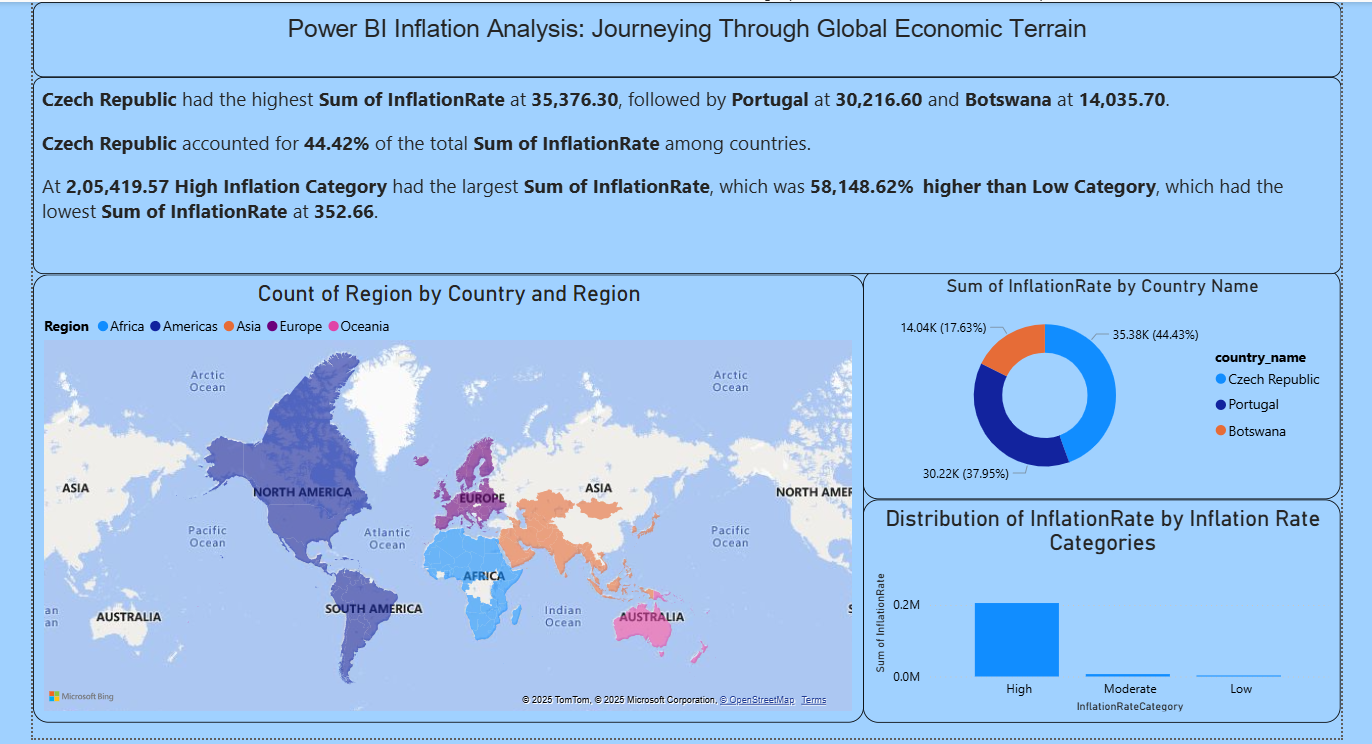

This screenshot's page, from the dashboard's own definition file:
{"tool":"powerbi","page":{"name":"Page 2","canvas":[1280,720],"ordinal":1},"visuals":[{"type":"donutChart","title":"Sum of InflationRate by Country Name","fields":{"Category":["DIM-Regions.country_name"],"Y":["Sum(global_inflation_data.InflationRate)"]},"box":[812.5,261.2,467.5,225],"z":0},{"type":"clusteredColumnChart","title":"Distribution of InflationRate by Inflation Rate Categories","fields":{"Category":["global_inflation_data.InflationRateCategory"],"Y":["Sum(global_inflation_data.InflationRate)"]},"box":[812.5,486.2,467.5,218.8],"z":1},{"type":"filledMap","title":"Count of Region by Country and Region","fields":{"Category":["DIM-Regions.country_name"],"Series":["DIM-Regions.Region"]},"box":[0,266.2,812.5,438.8],"z":2},{"type":"textbox","box":[0,0,1280,73.8],"z":3},{"type":"textbox","box":[0,73.8,1280,192.5],"z":4}]}

Visuals, with their boxes in screenshot pixels (x1, y1, x2, y2):
"Sum of InflationRate by Country Name" donutChart: bbox(859, 266, 1335, 495)
"Distribution of InflationRate by Inflation Rate Categories" clusteredColumnChart: bbox(859, 495, 1335, 718)
"Count of Region by Country and Region" filledMap: bbox(32, 271, 859, 718)
textbox: bbox(32, 0, 1335, 75)
textbox: bbox(32, 75, 1335, 271)
